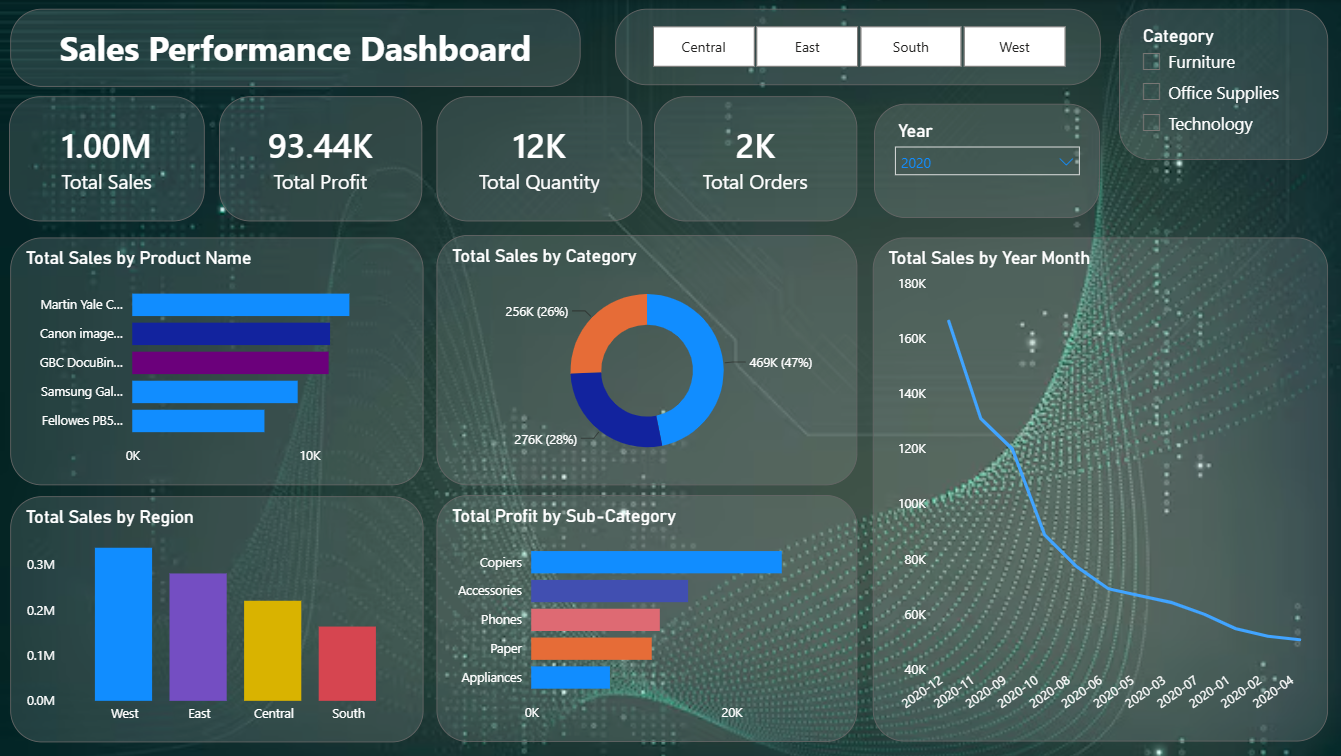

The dashboard page shown, as its layout file describes it:
{"tool":"powerbi","page":{"name":"Page 1","canvas":[1280,720],"ordinal":0},"visuals":[{"type":"cardVisual","fields":{"Data":["DateTable.Total Sales"]},"box":[9.6,91.9,186.6,119.4],"z":0},{"type":"cardVisual","fields":{"Data":["DateTable.Total Profit"]},"box":[209.9,91.9,193.5,119.4],"z":1000},{"type":"cardVisual","fields":{"Data":["DateTable.Total Quantity"]},"box":[417.2,91.9,196.2,119.4],"z":2000},{"type":"cardVisual","fields":{"Data":["DateTable.Total Orders"]},"box":[624.4,91.9,193.5,119.4],"z":3000},{"type":"textbox","box":[11,8.2,543.4,74.1],"z":4000},{"type":"lineChart","fields":{"Category":["DateTable.Year Month"],"Y":["DateTable.Total Sales"]},"box":[831.6,226.4,433.6,480.3],"z":5000},{"type":"clusteredColumnChart","fields":{"Category":["Superstore_sales_dataset.Region"],"Y":["DateTable.Total Sales"]},"box":[11,472,393.8,234.6],"z":6000},{"type":"donutChart","fields":{"Category":["Superstore_sales_dataset.Category"],"Y":["DateTable.Total Sales"]},"box":[417.2,223.7,400.7,238.8],"z":7000},{"type":"clusteredBarChart","fields":{"Category":["Superstore_sales_dataset.Sub-Category"],"Y":["DateTable.Total Profit"]},"box":[417,472,401,235],"z":8000},{"type":"clusteredBarChart","fields":{"Category":["Superstore_sales_dataset.Product Name"],"Y":["DateTable.Total Sales"]},"box":[11,226.4,393.8,236],"z":9000},{"type":"slicer","fields":{"Values":["Superstore_sales_dataset.Region"]},"box":[587.3,8.2,462.4,72.7],"z":10000},{"type":"slicer","fields":{"Values":["Superstore_sales_dataset.Category"]},"box":[1066.2,8.2,199,144.1],"z":11000},{"type":"slicer","fields":{"Values":["DateTable.Year"]},"box":[832.9,98.8,215.4,108.4],"z":12000}]}

Visuals, with their boxes in screenshot pixels (x1, y1, x2, y2), scaled from the page's 1280x720 canvas onto the 1341x756 screenshot:
cardVisual - DateTable.Total Sales: 10/96/206/222
cardVisual - DateTable.Total Profit: 220/96/423/222
cardVisual - DateTable.Total Quantity: 437/96/643/222
cardVisual - DateTable.Total Orders: 654/96/857/222
textbox: 12/9/581/86
lineChart - DateTable.Year Month x DateTable.Total Sales: 871/238/1325/742
clusteredColumnChart - Superstore_sales_dataset.Region x DateTable.Total Sales: 12/496/424/742
donutChart - Superstore_sales_dataset.Category x DateTable.Total Sales: 437/235/857/486
clusteredBarChart - Superstore_sales_dataset.Sub-Category x DateTable.Total Profit: 437/496/857/742
clusteredBarChart - Superstore_sales_dataset.Product Name x DateTable.Total Sales: 12/238/424/486
slicer - Superstore_sales_dataset.Region: 615/9/1100/85
slicer - Superstore_sales_dataset.Category: 1117/9/1325/160
slicer - DateTable.Year: 873/104/1098/218
